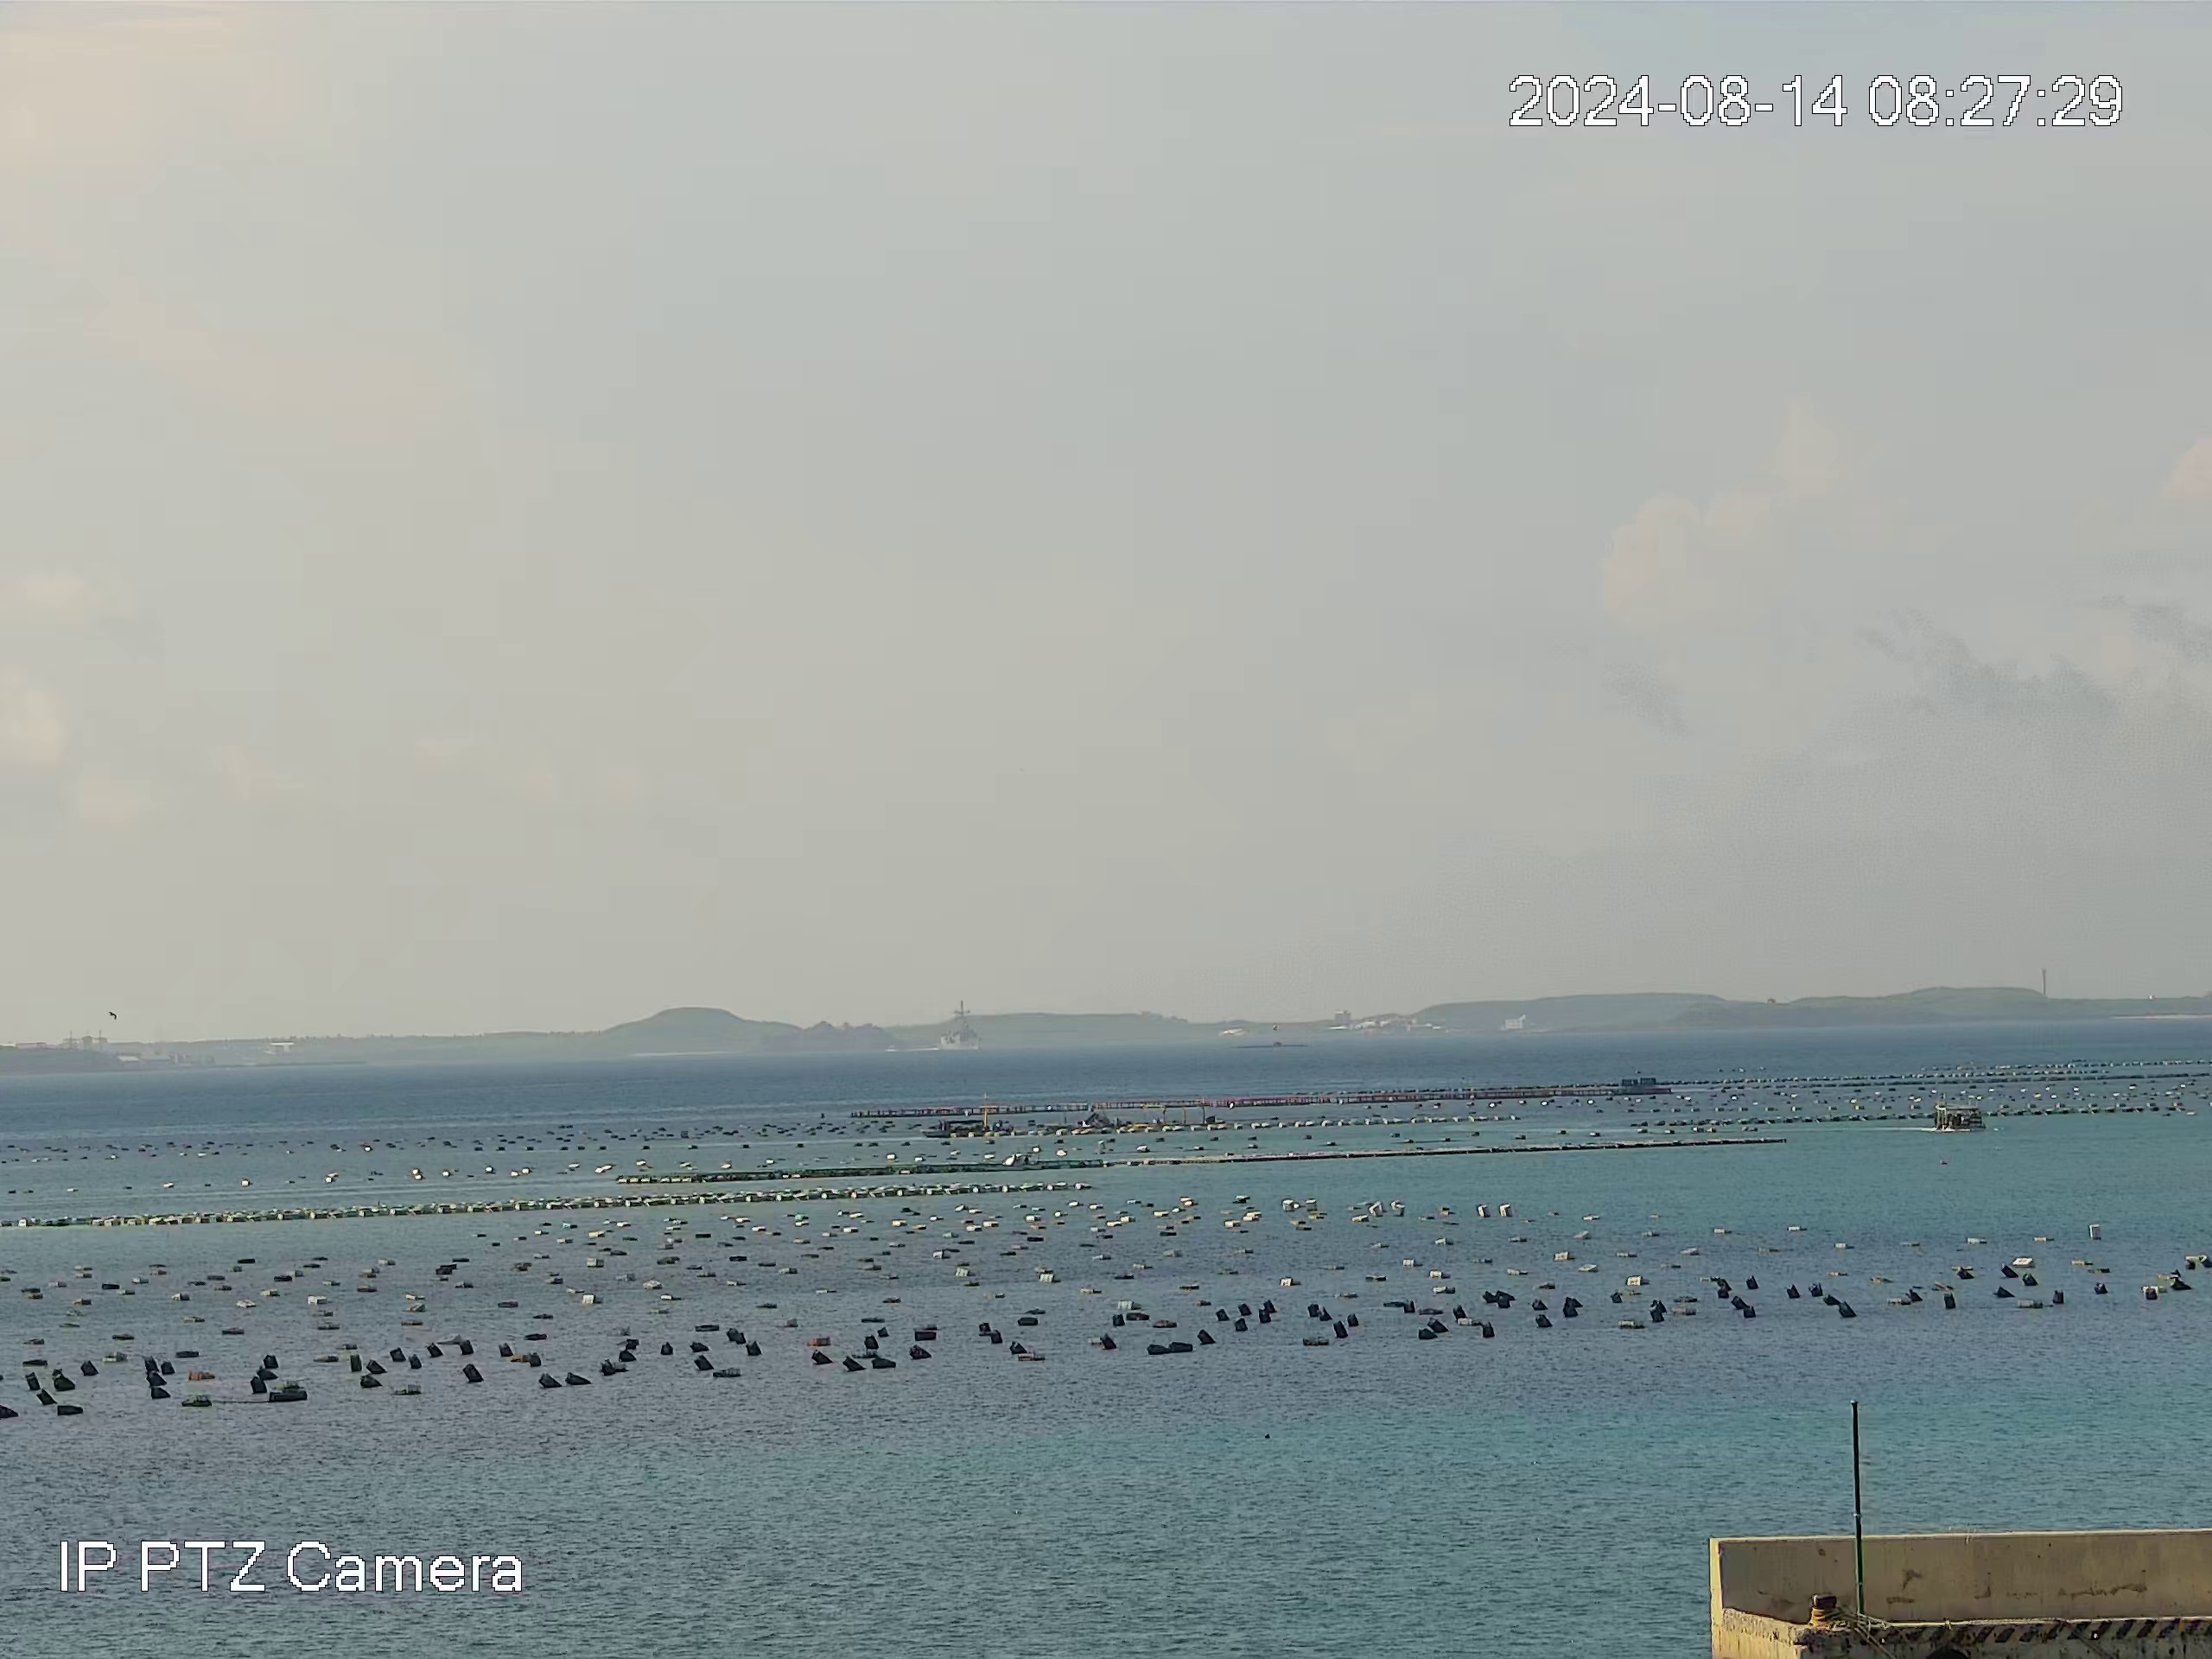boat: (920, 1115, 993, 1140), (1937, 1105, 1984, 1133)
